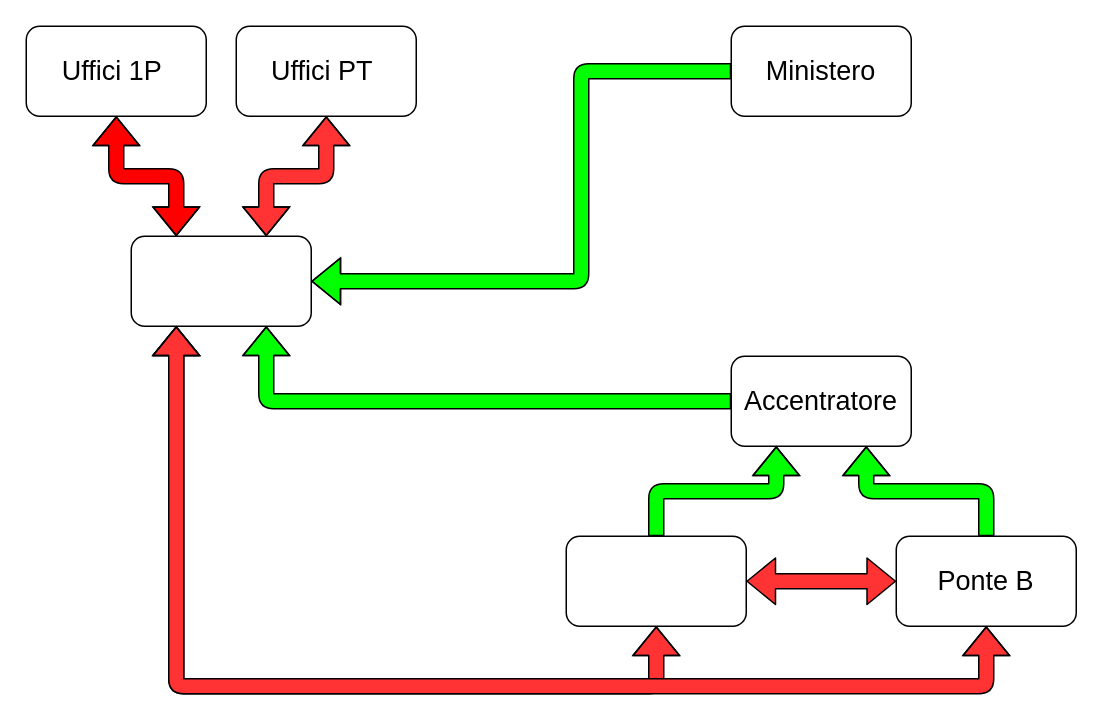
Some shapes in this 1103 by 720 pixel diagram are drawn without their labels. Here are the shapes that lost their labels. From the top down, the centre of each, then its label:
At (220,280): "Reparto IT".
At (655,580): "Ponte A".
